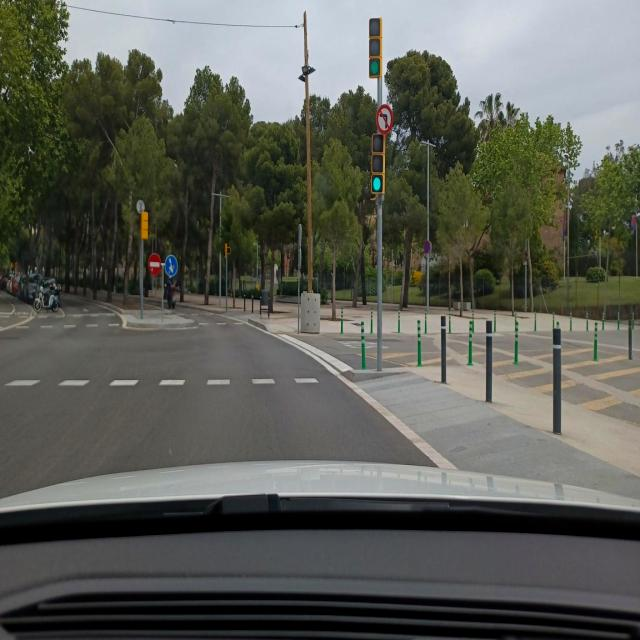bike: (33, 277, 61, 311)
car: (23, 273, 43, 302), (585, 266, 608, 282), (11, 274, 22, 296), (0, 272, 8, 290)
